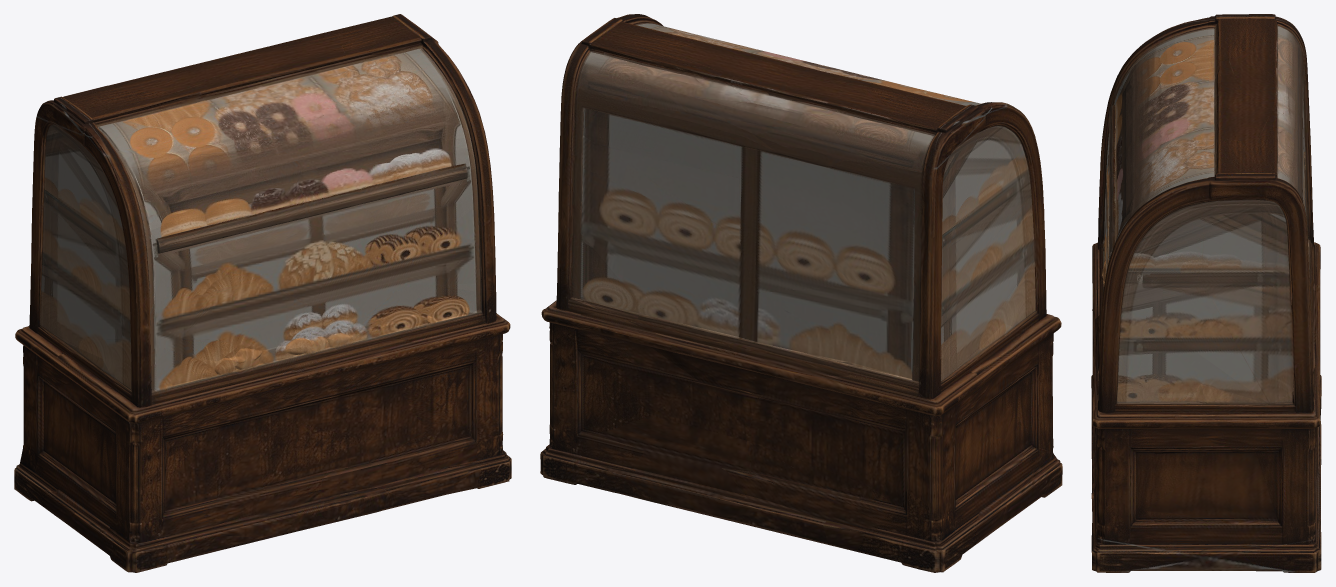
File: display.glb
3 views of the same model, side by side, from view 1: azimuth 30°, elevation 25°; view 2: azimuth 150°, elevation 25°; view 3: azimuth 270°, elevation 25° (orthographic). The views are drawn at different scales.
Visible parts, largest first — view 1: Mesh_0; view 2: Mesh_0; view 3: Mesh_0.
Boxes of the visible parts, x1=… form: Mesh_0: x1=14, y1=14, x2=511, y2=572; Mesh_0: x1=540, y1=14, x2=1062, y2=572; Mesh_0: x1=1091, y1=14, x2=1321, y2=572.
Size of the model in its own units: 1.9 by 1.9 by 1.02.
Materials: 1 (1 with a texture image).
